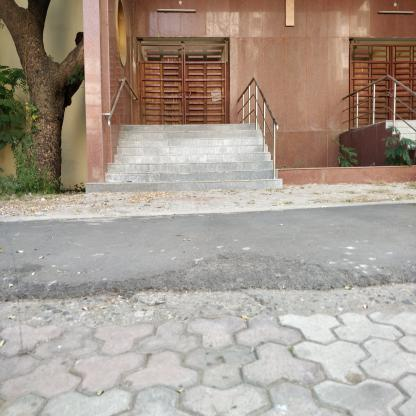stairs: (120, 122, 254, 197)
